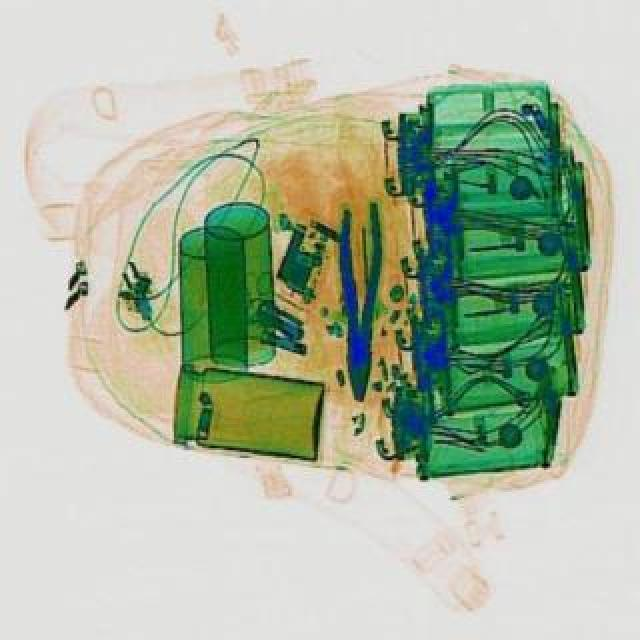wrench: (336, 202, 384, 400)
